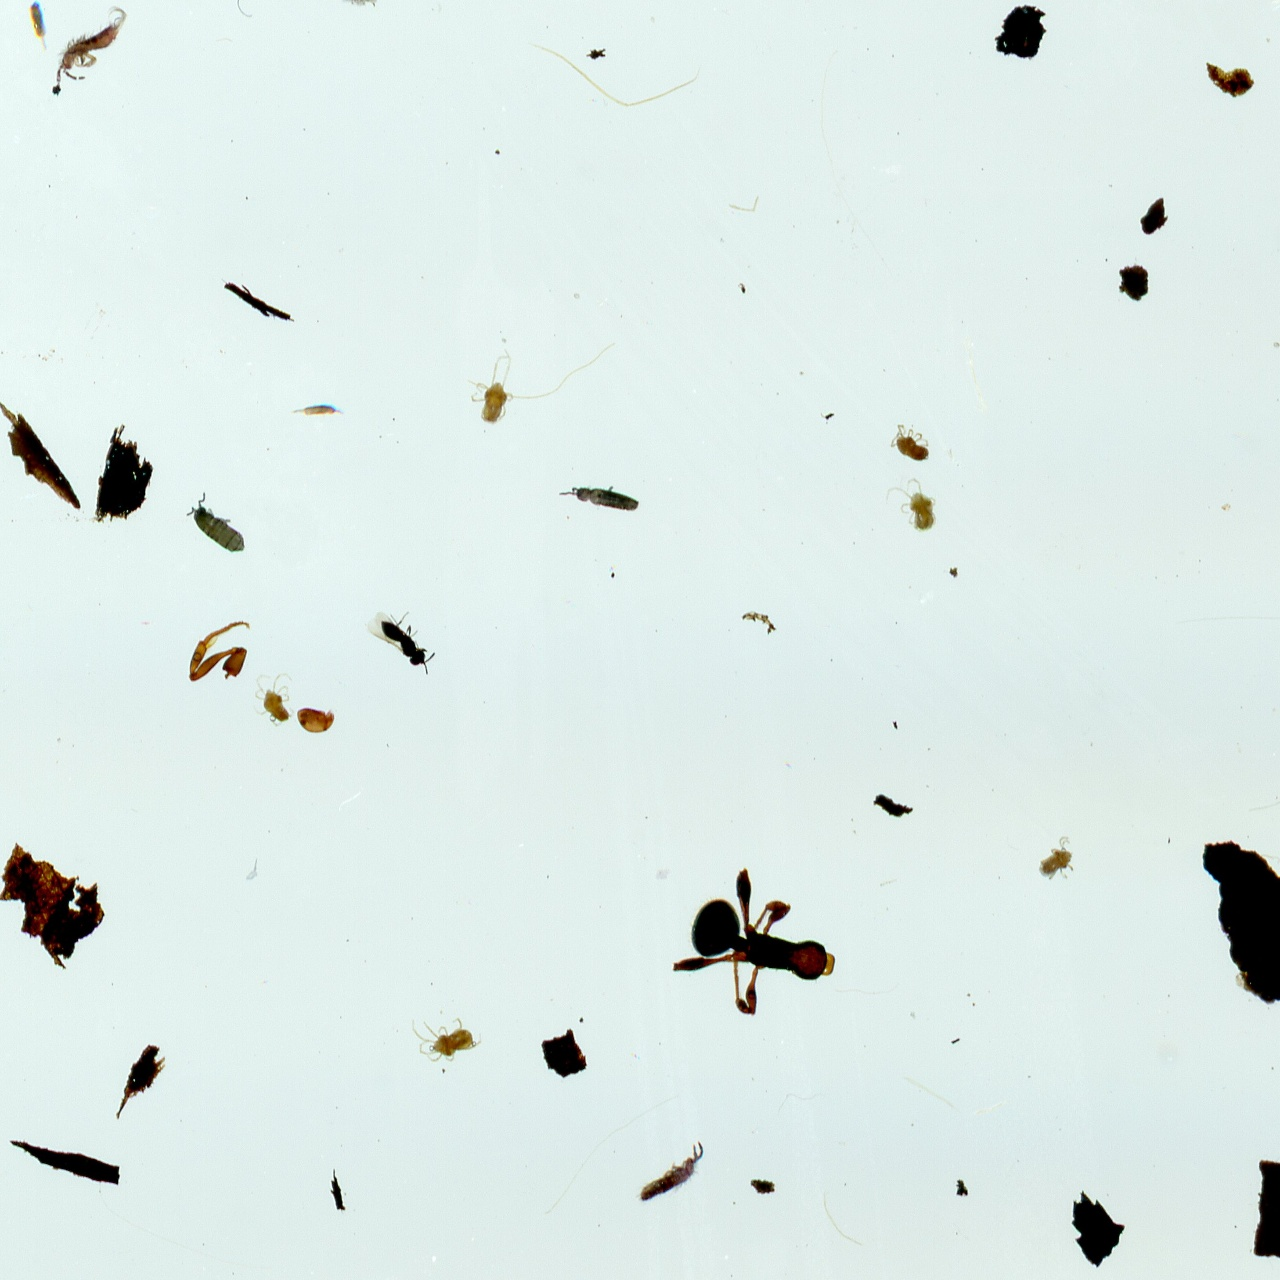arthropod: (666, 865, 838, 1020), (463, 340, 620, 429), (628, 1129, 722, 1224), (172, 483, 260, 574), (52, 1, 130, 94), (363, 605, 436, 678), (409, 1014, 484, 1067), (883, 474, 938, 535), (553, 481, 642, 518), (251, 670, 298, 728), (1036, 833, 1077, 886), (319, 0, 389, 27), (888, 421, 931, 464), (293, 703, 339, 738), (25, 0, 53, 55), (288, 402, 348, 420)
